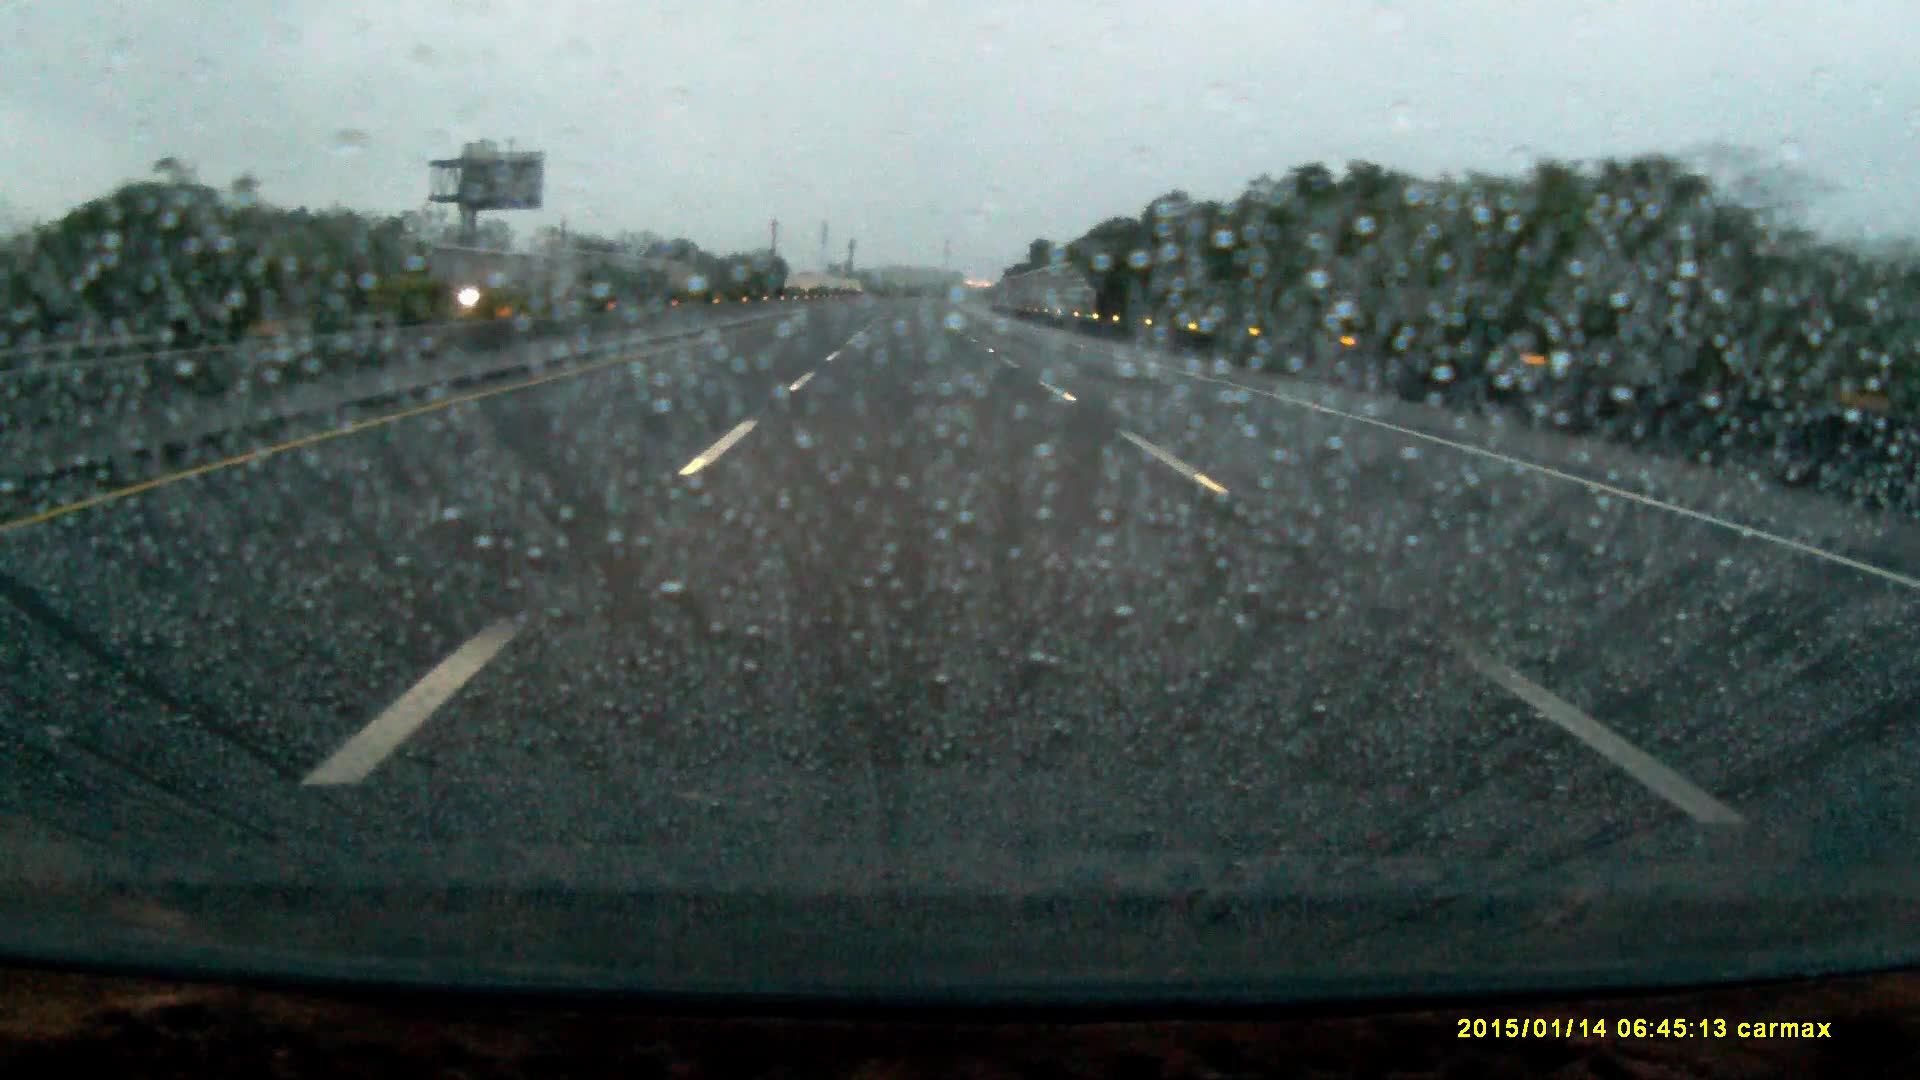vehicle: (469, 266, 568, 313)
